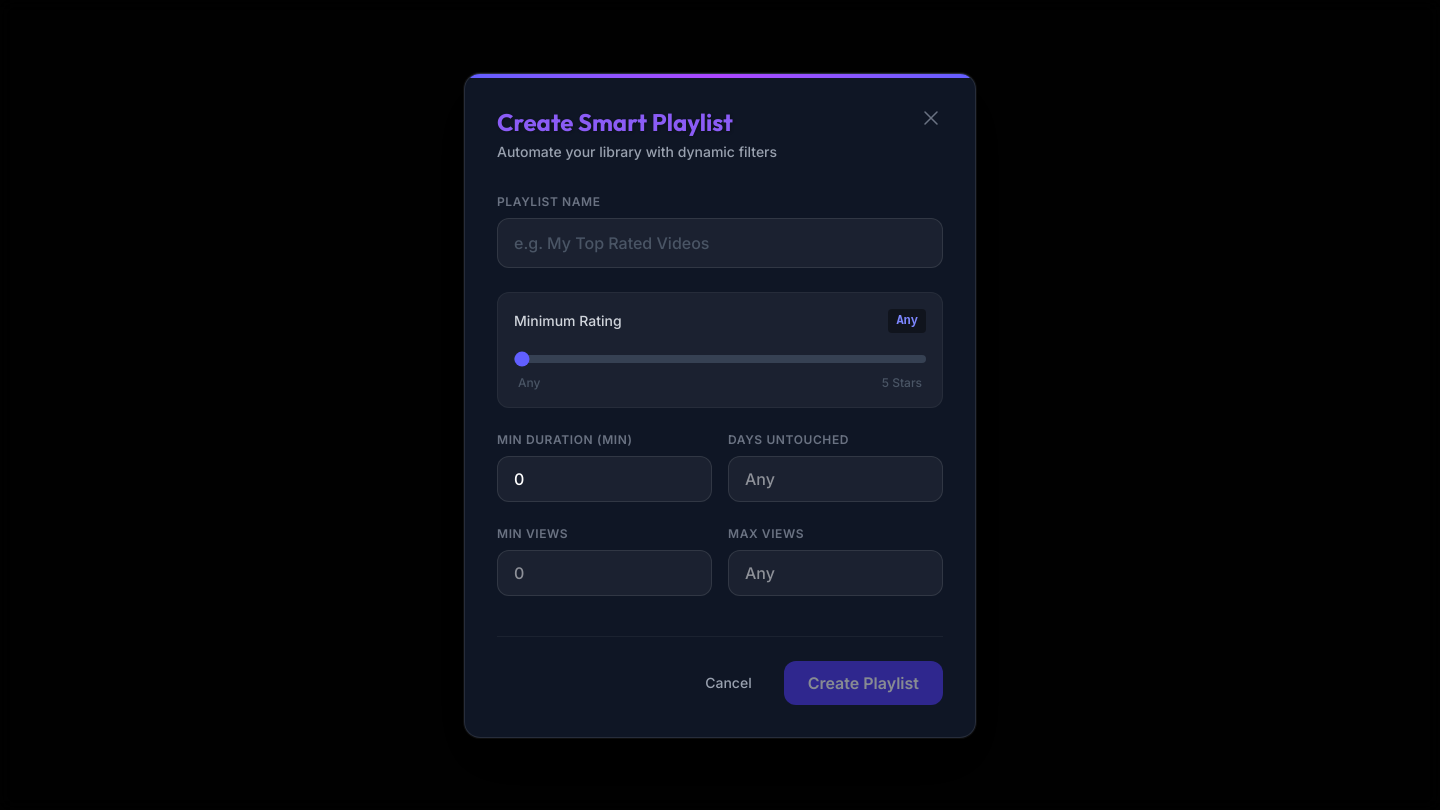
SmartPlaylistModal.vue › enables create button when name is valid
Step 1. Type "My Playlist" into the field labelled "Playlist Name" → [720, 242], box x1=497 y1=218 x2=943 y2=268
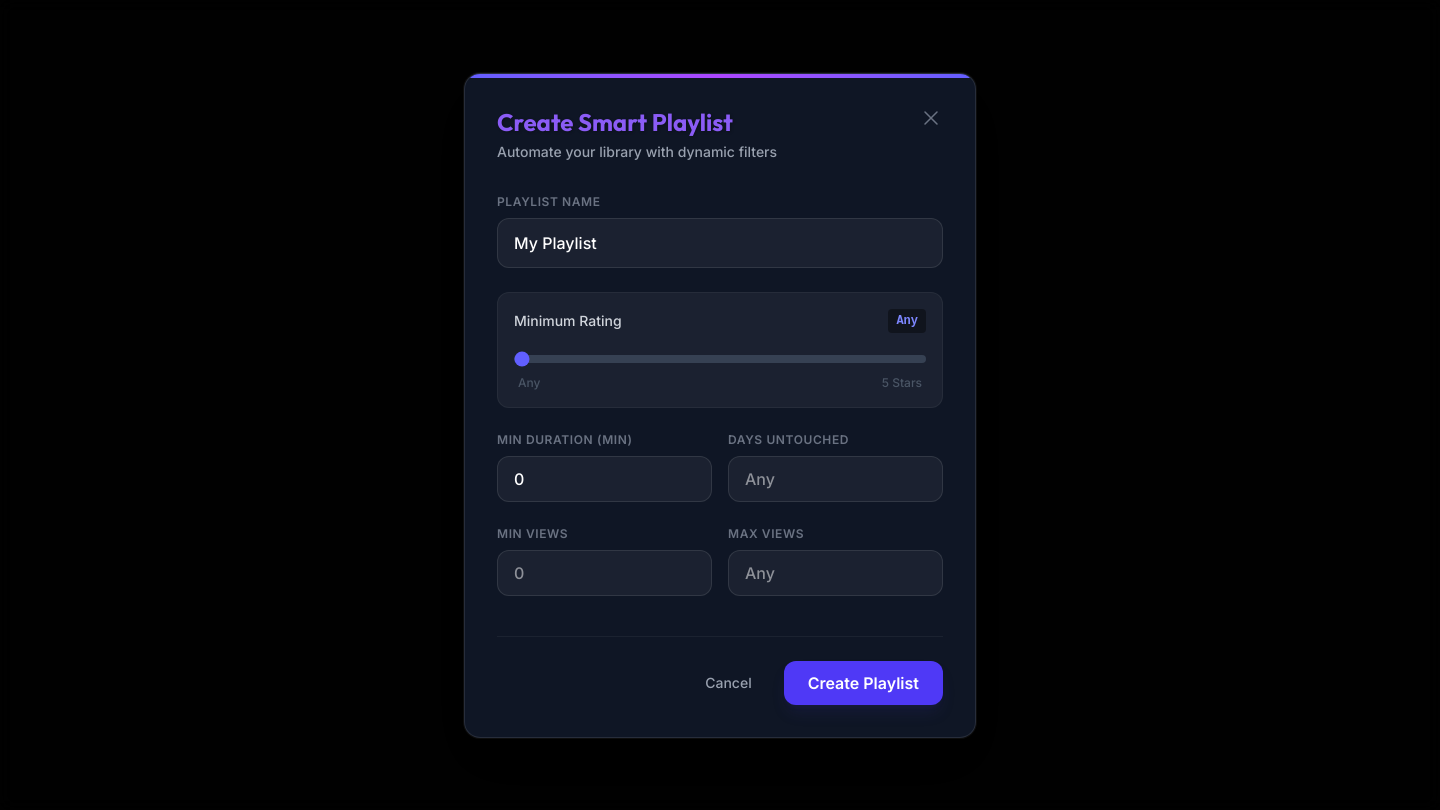
Result: the button "Create Playlist" is enabled at x1=784 y1=660 x2=943 y2=704
